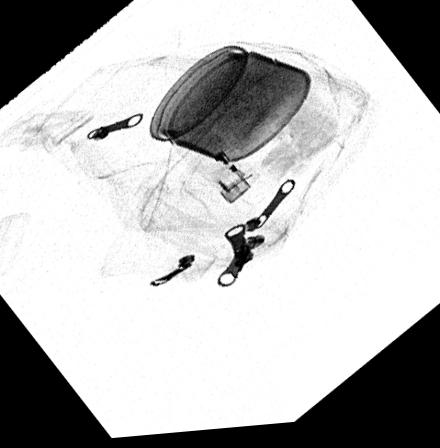Lighter: (174, 126, 260, 208)
